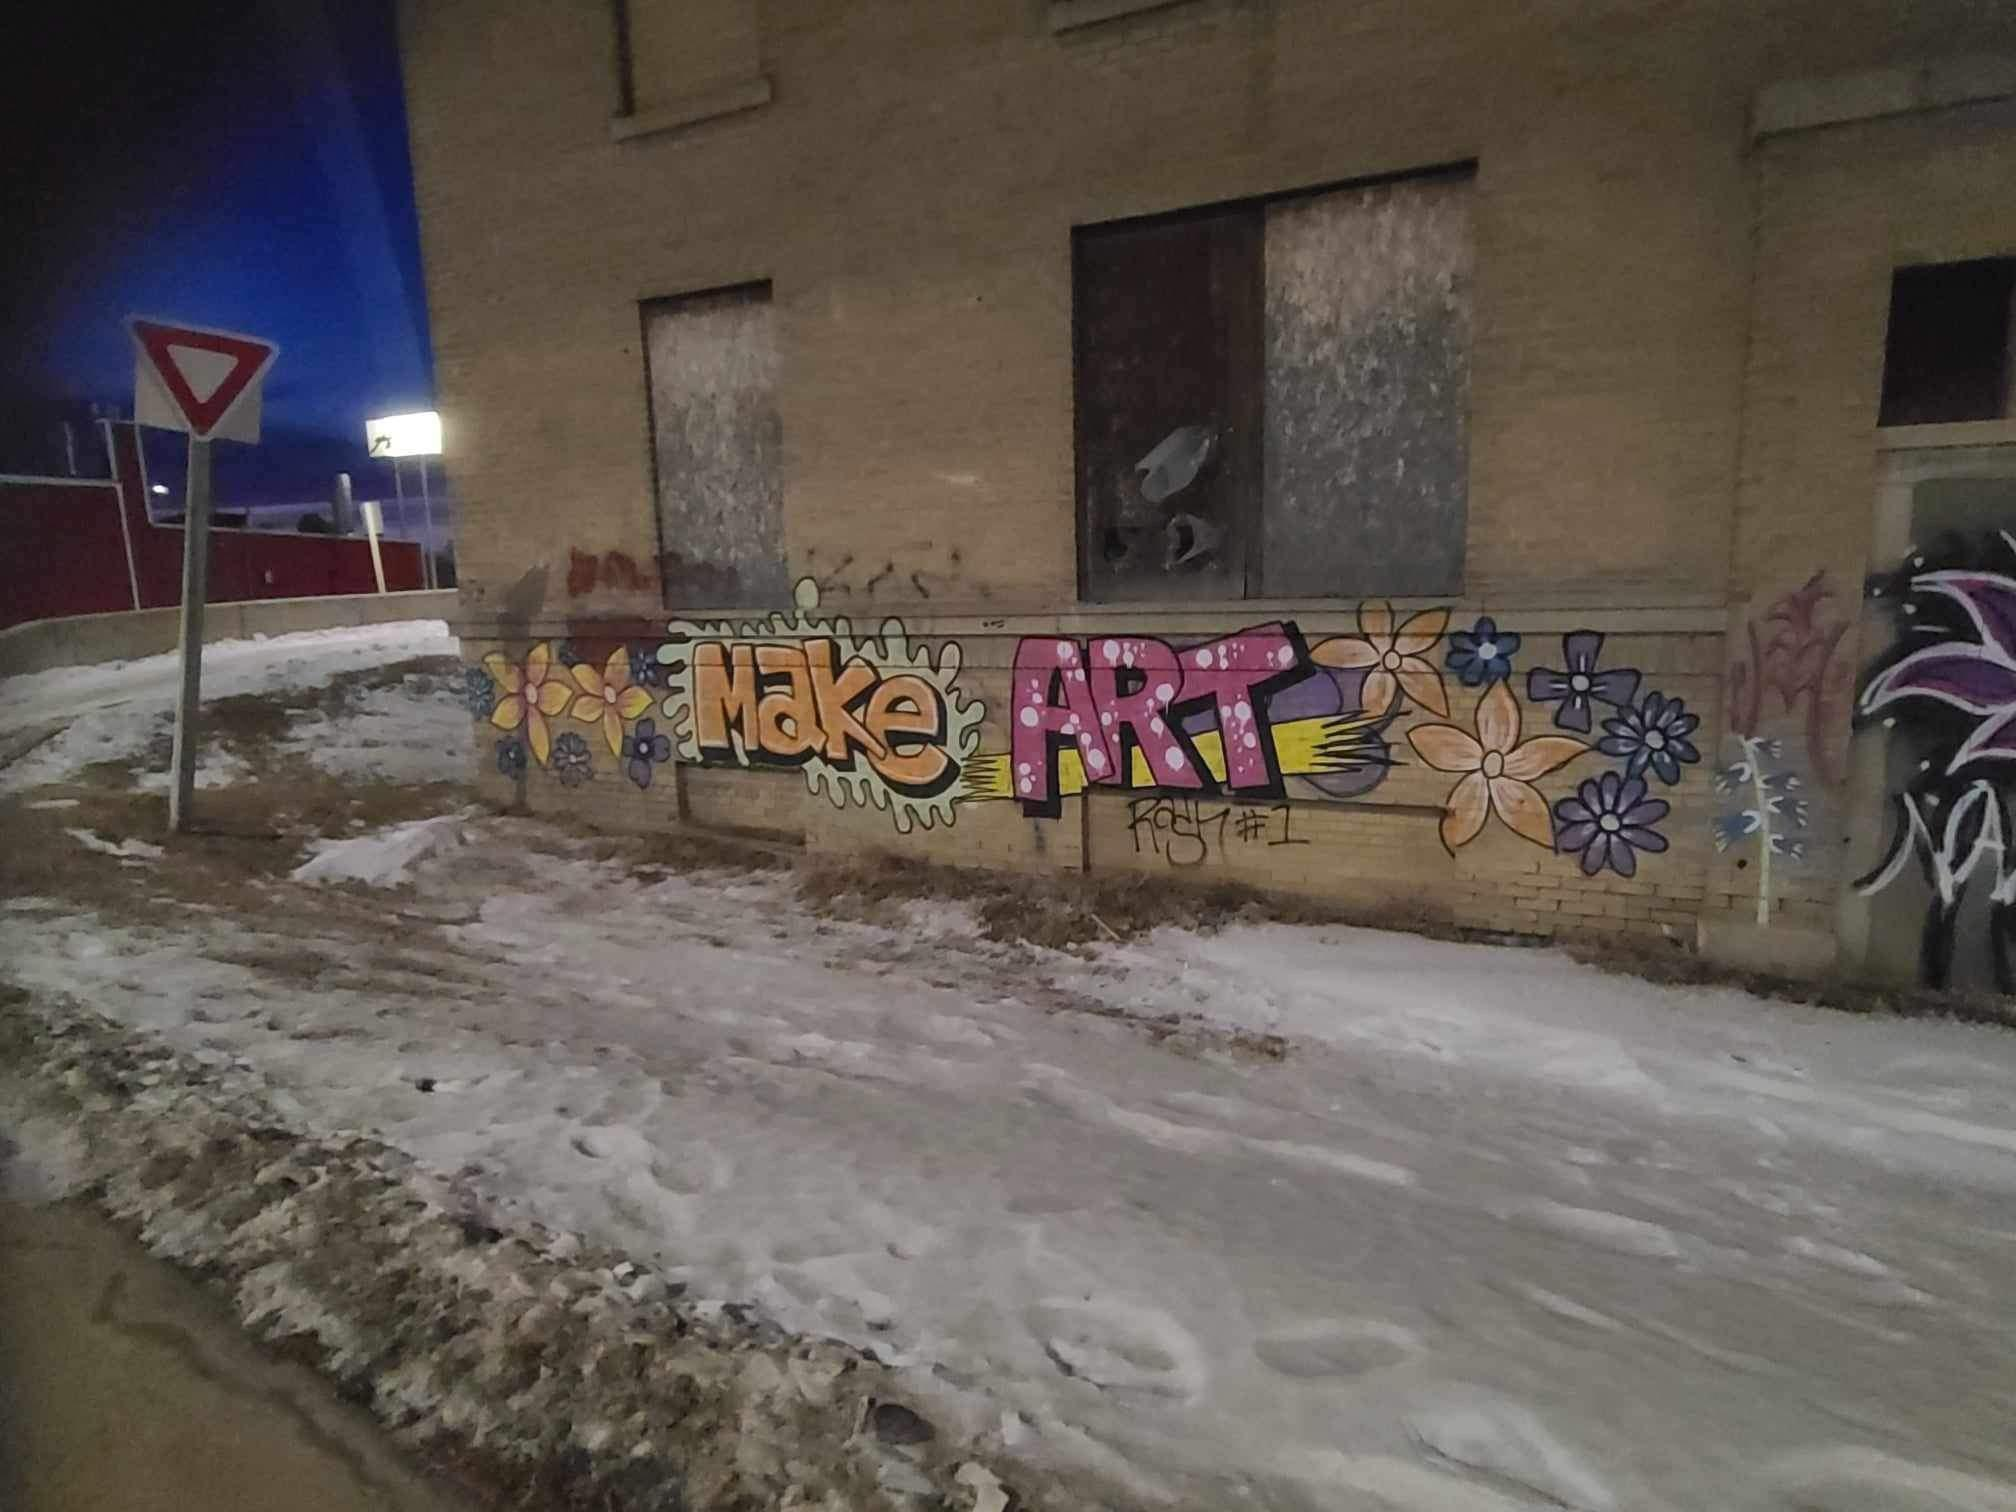graffiti: (1298, 578, 1726, 858), (470, 635, 989, 807), (987, 627, 1314, 834), (1895, 548, 2016, 921)
